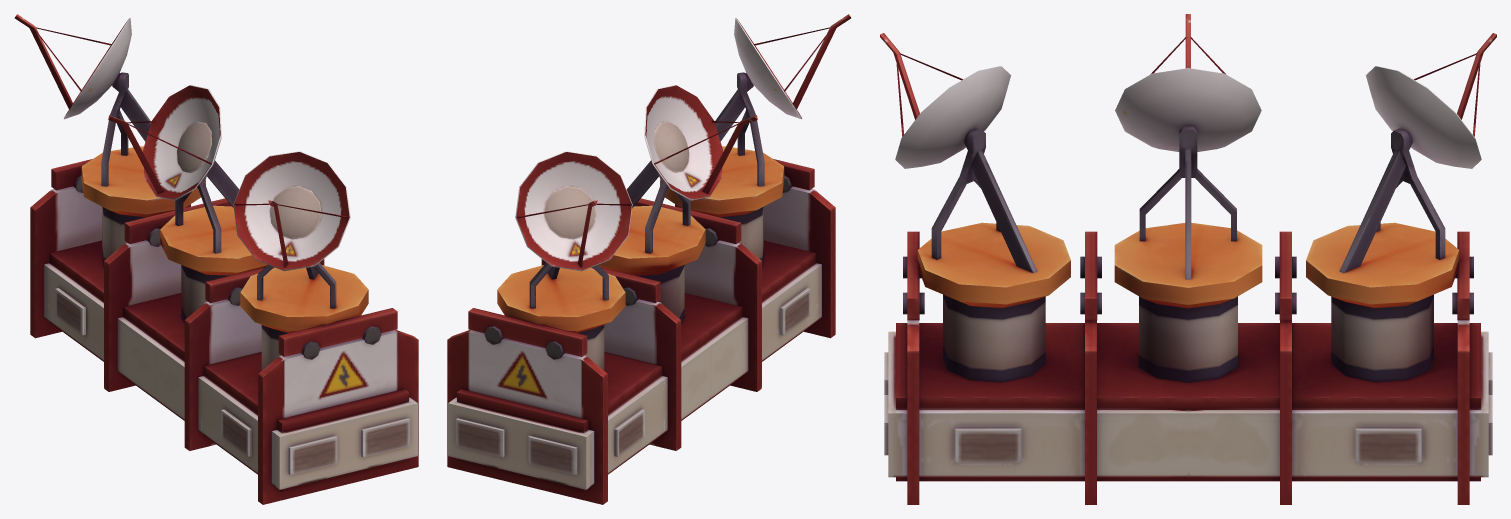
File: Obstacle_SatDish.FBX
The picture shows the model from 3 angles, left to right: view 1: azimuth 30°, elevation 25°; view 2: azimuth 150°, elevation 25°; view 3: azimuth 270°, elevation 25°; orthographic projection. The views are drawn at different scales.
Parts seen in each view (by area): view 1: Obstacle_SatDish; view 2: Obstacle_SatDish; view 3: Obstacle_SatDish.
Boxes of the visible parts, bbox=[...] form: Obstacle_SatDish: bbox=[14, 14, 418, 504]; Obstacle_SatDish: bbox=[447, 14, 851, 504]; Obstacle_SatDish: bbox=[880, 14, 1496, 504].
Size of the model in its own units: 11.18 by 17.4 by 25.5.
